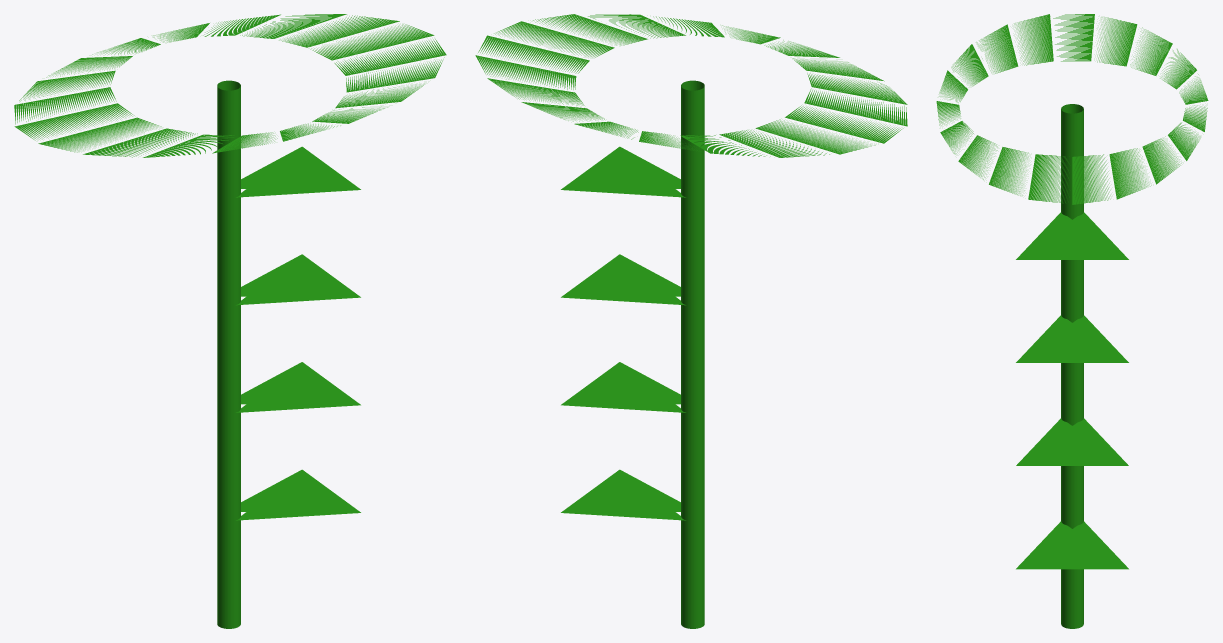
File: Plant.glb
The picture shows the model from 3 angles, left to right: view 1: azimuth 30°, elevation 25°; view 2: azimuth 150°, elevation 25°; view 3: azimuth 270°, elevation 25°; orthographic projection. The views are drawn at different scales.
Parts seen in each view (by area): view 1: sunflower_plant; view 2: sunflower_plant; view 3: sunflower_plant.
Part boxes in pixels (x1,y1,x2,y2): sunflower_plant: (14, 14, 446, 628); sunflower_plant: (475, 14, 907, 628); sunflower_plant: (936, 14, 1208, 628).
Size of the model in its own units: 39.73 by 50 by 23.92.
